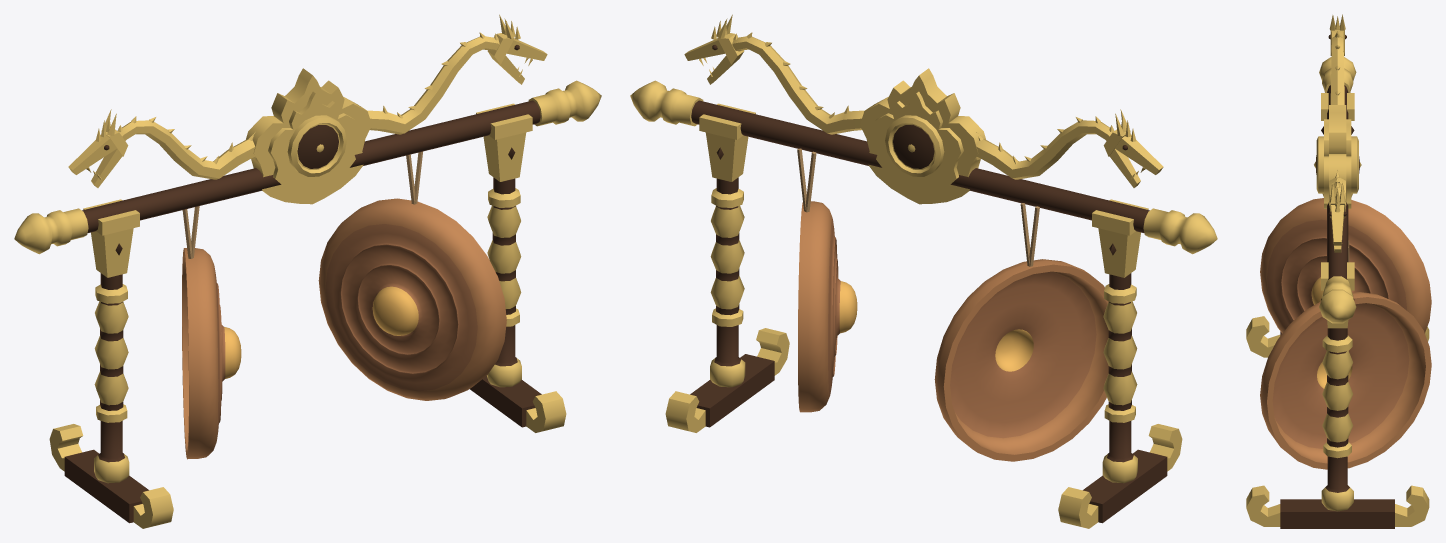
File: GongAgengSet.fbx
3 views of the same model, side by side, from view 1: azimuth 30°, elevation 25°; view 2: azimuth 150°, elevation 25°; view 3: azimuth 270°, elevation 25° (orthographic). The views are drawn at different scales.
Visible parts, largest first — view 1: GongAgengSet_Mesh; view 2: GongAgengSet_Mesh; view 3: GongAgengSet_Mesh.
Boxes of the visible parts, x1,y1,x2,y2 form: GongAgengSet_Mesh: (14, 14, 601, 528); GongAgengSet_Mesh: (630, 14, 1217, 528); GongAgengSet_Mesh: (1246, 14, 1431, 528).
Size of the model in its own units: 0.964 by 0.6032 by 0.2981.
